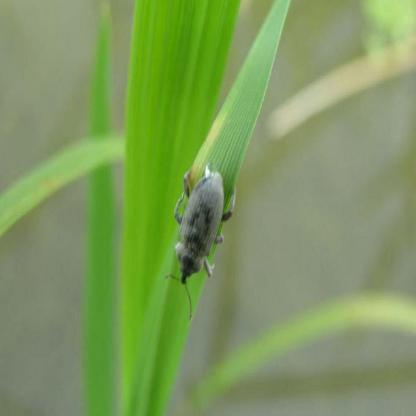rice-bug: (172, 159, 238, 279)
